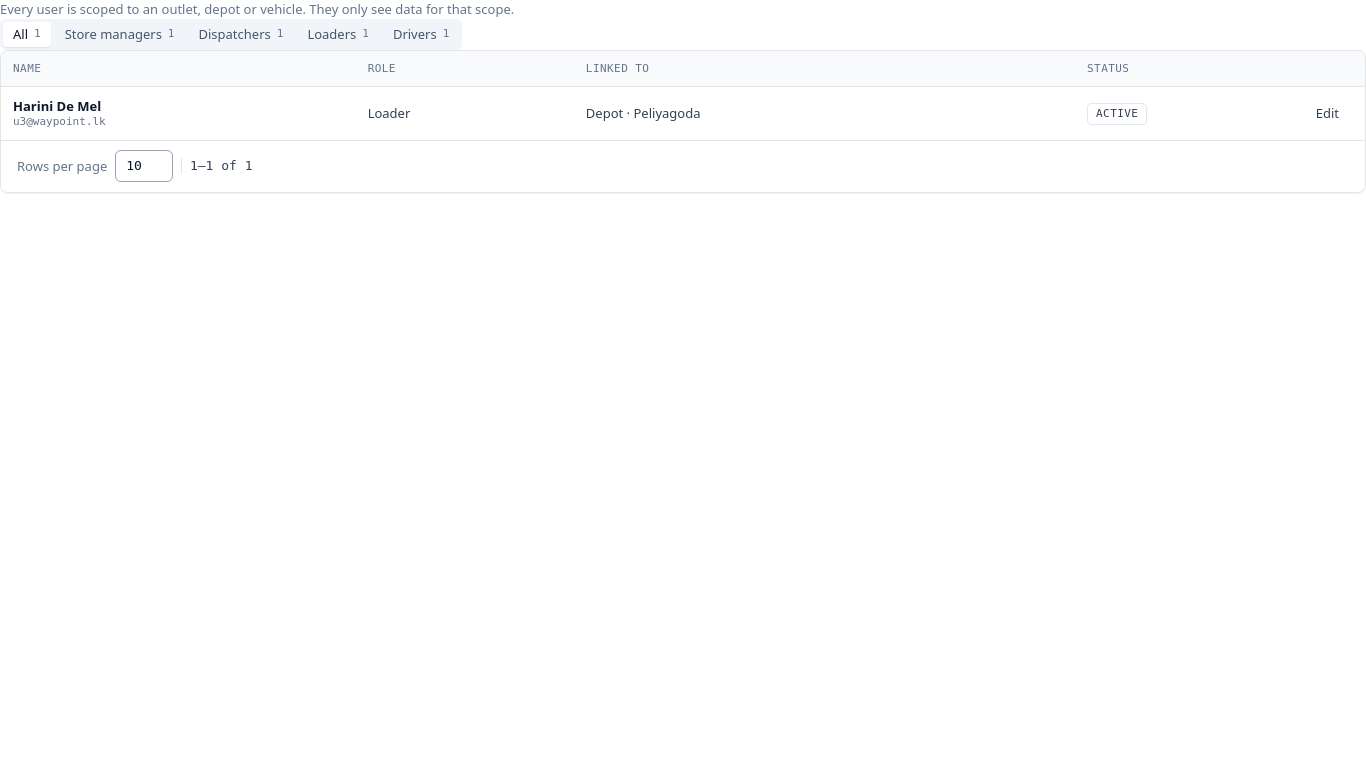
Test: A1 Users › AC-IDN-66 in demo mode the edit dialog shows a loader's PIN
Click the button "Edit" at coordinates (1327, 114), box [1302,98,1353,130]
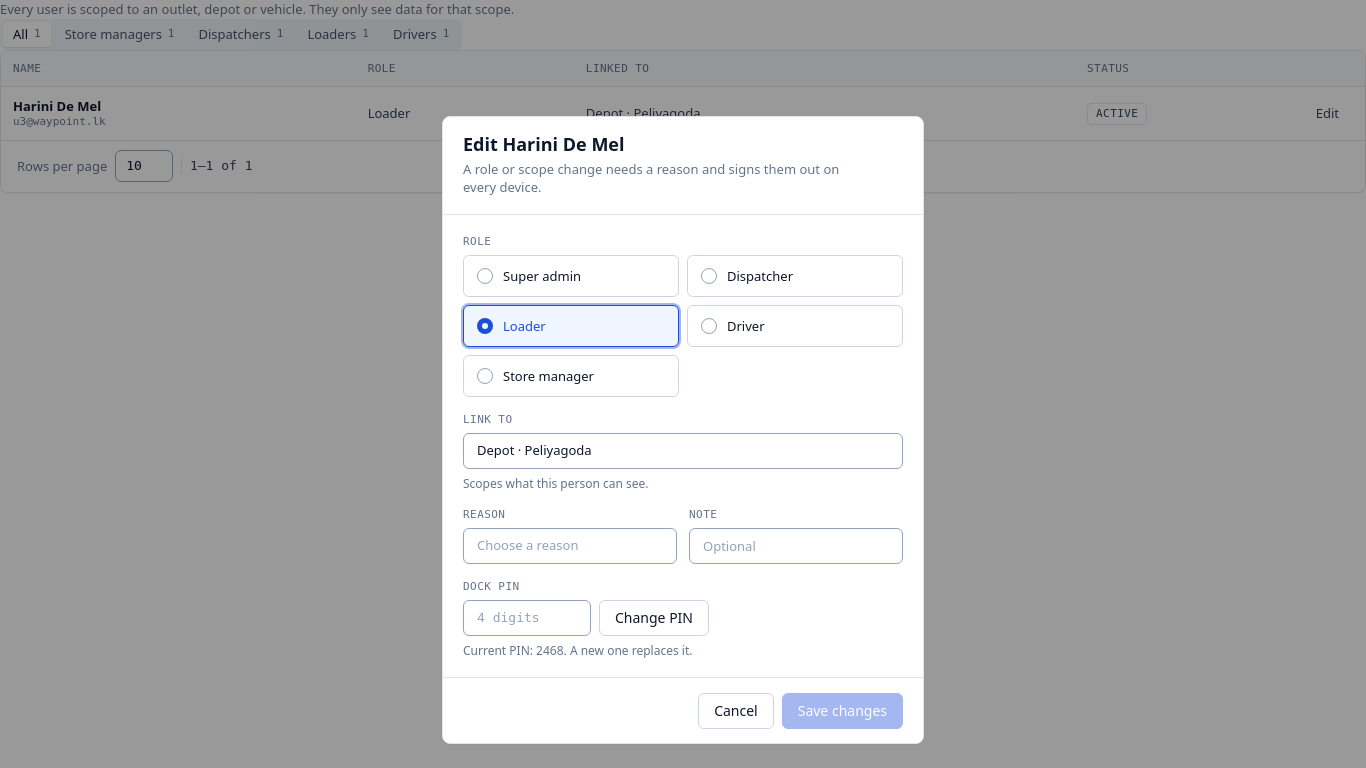
Expected: the text "Current PIN: 2468. A new one replaces it." is shown, [463,642,692,659]
Type "9753" into the field with placeholder "4 digits" at coordinates (527, 618), box [463,600,591,636]
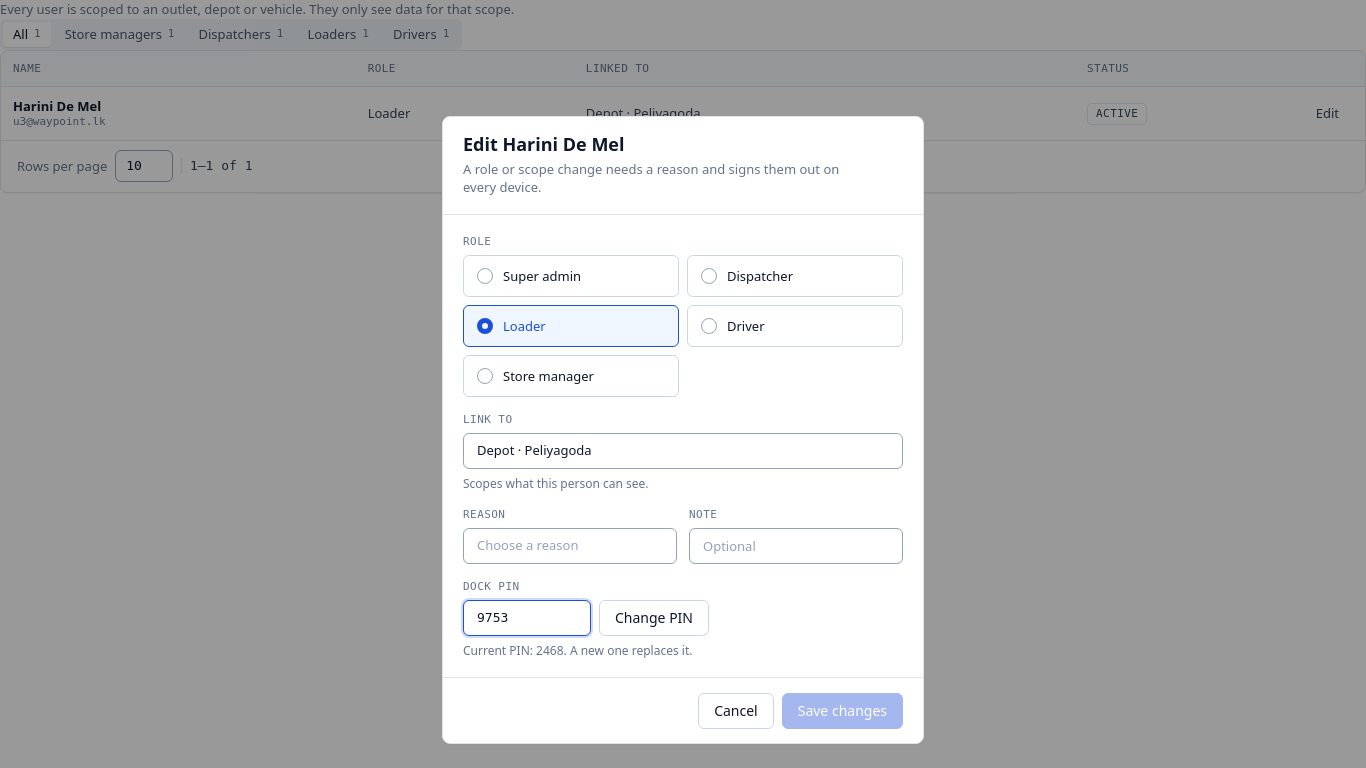
Click the button "Change PIN" at coordinates (654, 618), box [599,600,709,636]
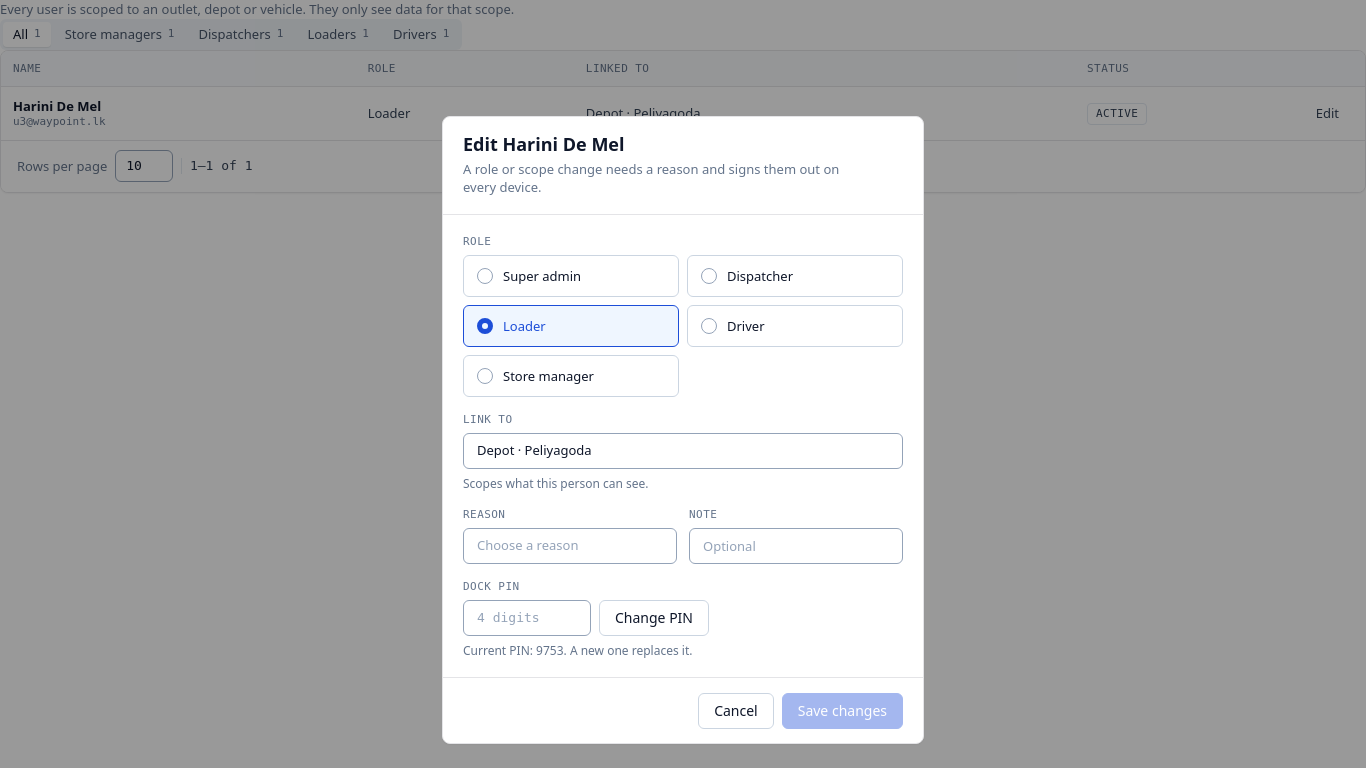
Expected: the text "Current PIN: 9753. A new one replaces it." is shown, [463,642,692,659]
